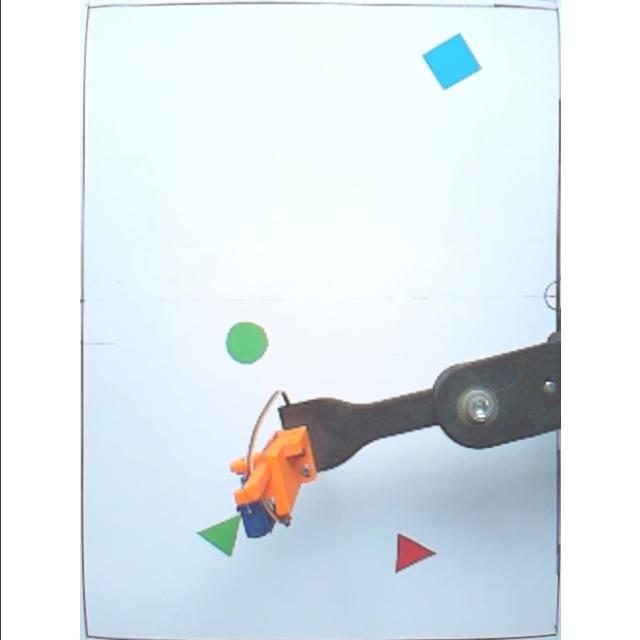blueSquare: (421, 32, 485, 94)
greenCircle: (226, 321, 270, 365)
greenTriangle: (198, 512, 245, 558)
redTriangle: (394, 533, 438, 573)
